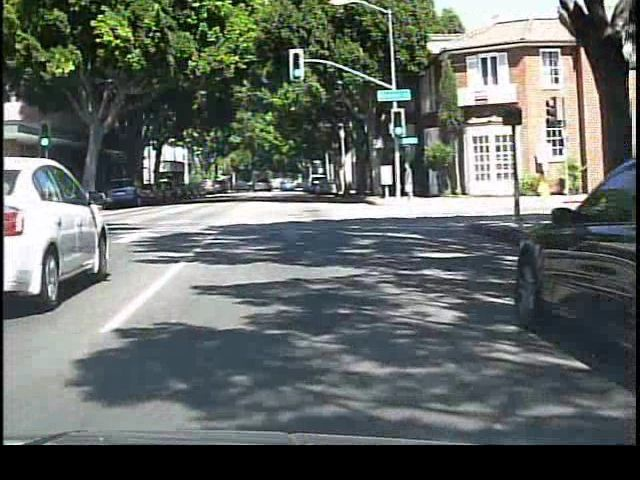person: (402, 157, 421, 206)
